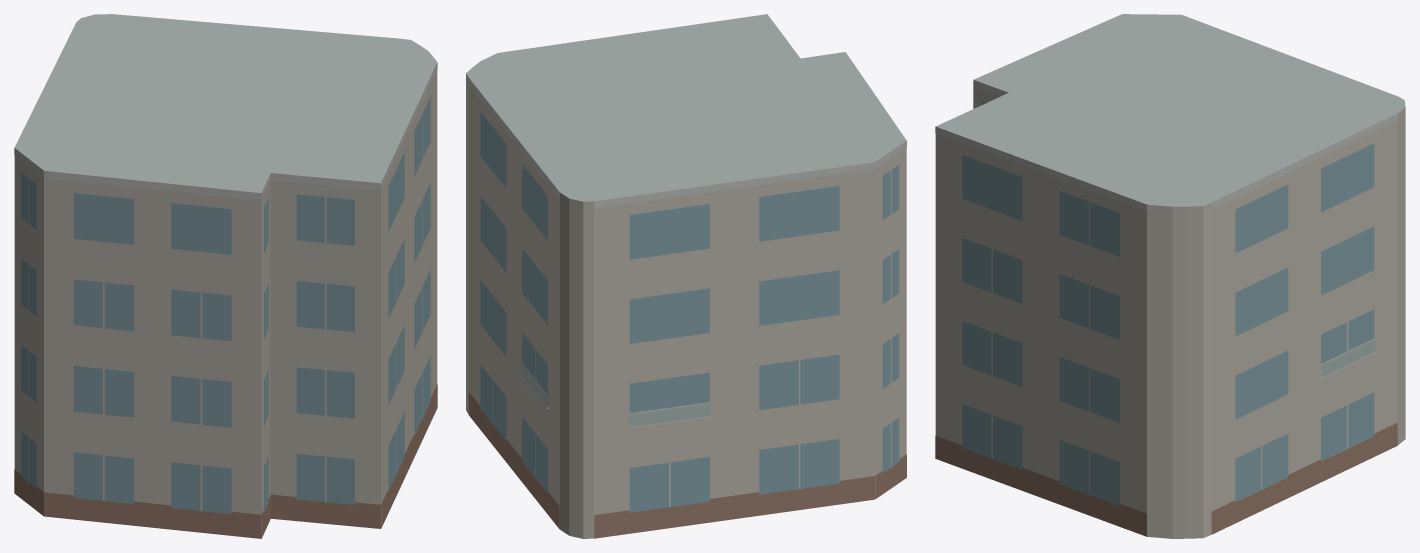
File: survey-upis-32536771.glb
The picture shows the model from 3 angles, left to right: view 1: azimuth 30°, elevation 25°; view 2: azimuth 150°, elevation 25°; view 3: azimuth 270°, elevation 25°; orthographic projection. The views are drawn at different scales.
Visible parts, largest first — view 1: survey-upis-32536771.tmp; view 2: survey-upis-32536771.tmp; view 3: survey-upis-32536771.tmp.
Boxes of the visible parts, <box> form: survey-upis-32536771.tmp: <box>14,14,437,538</box>; survey-upis-32536771.tmp: <box>466,14,906,538</box>; survey-upis-32536771.tmp: <box>935,14,1405,538</box>.
Bounding box in the file's own units: 14.44 × 11.6 × 14.88.
